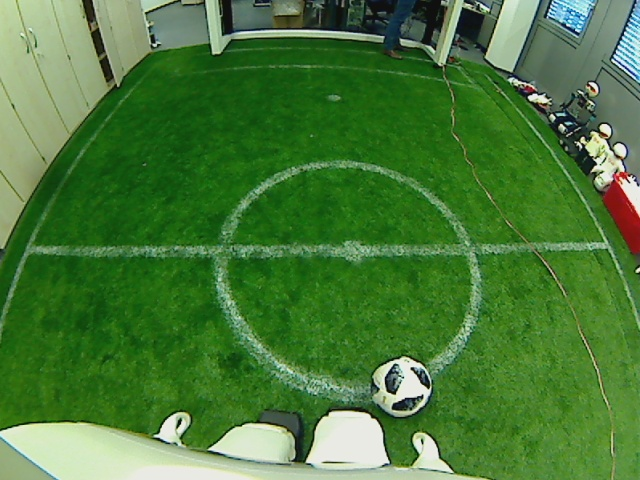ball: (371, 354, 433, 418)
